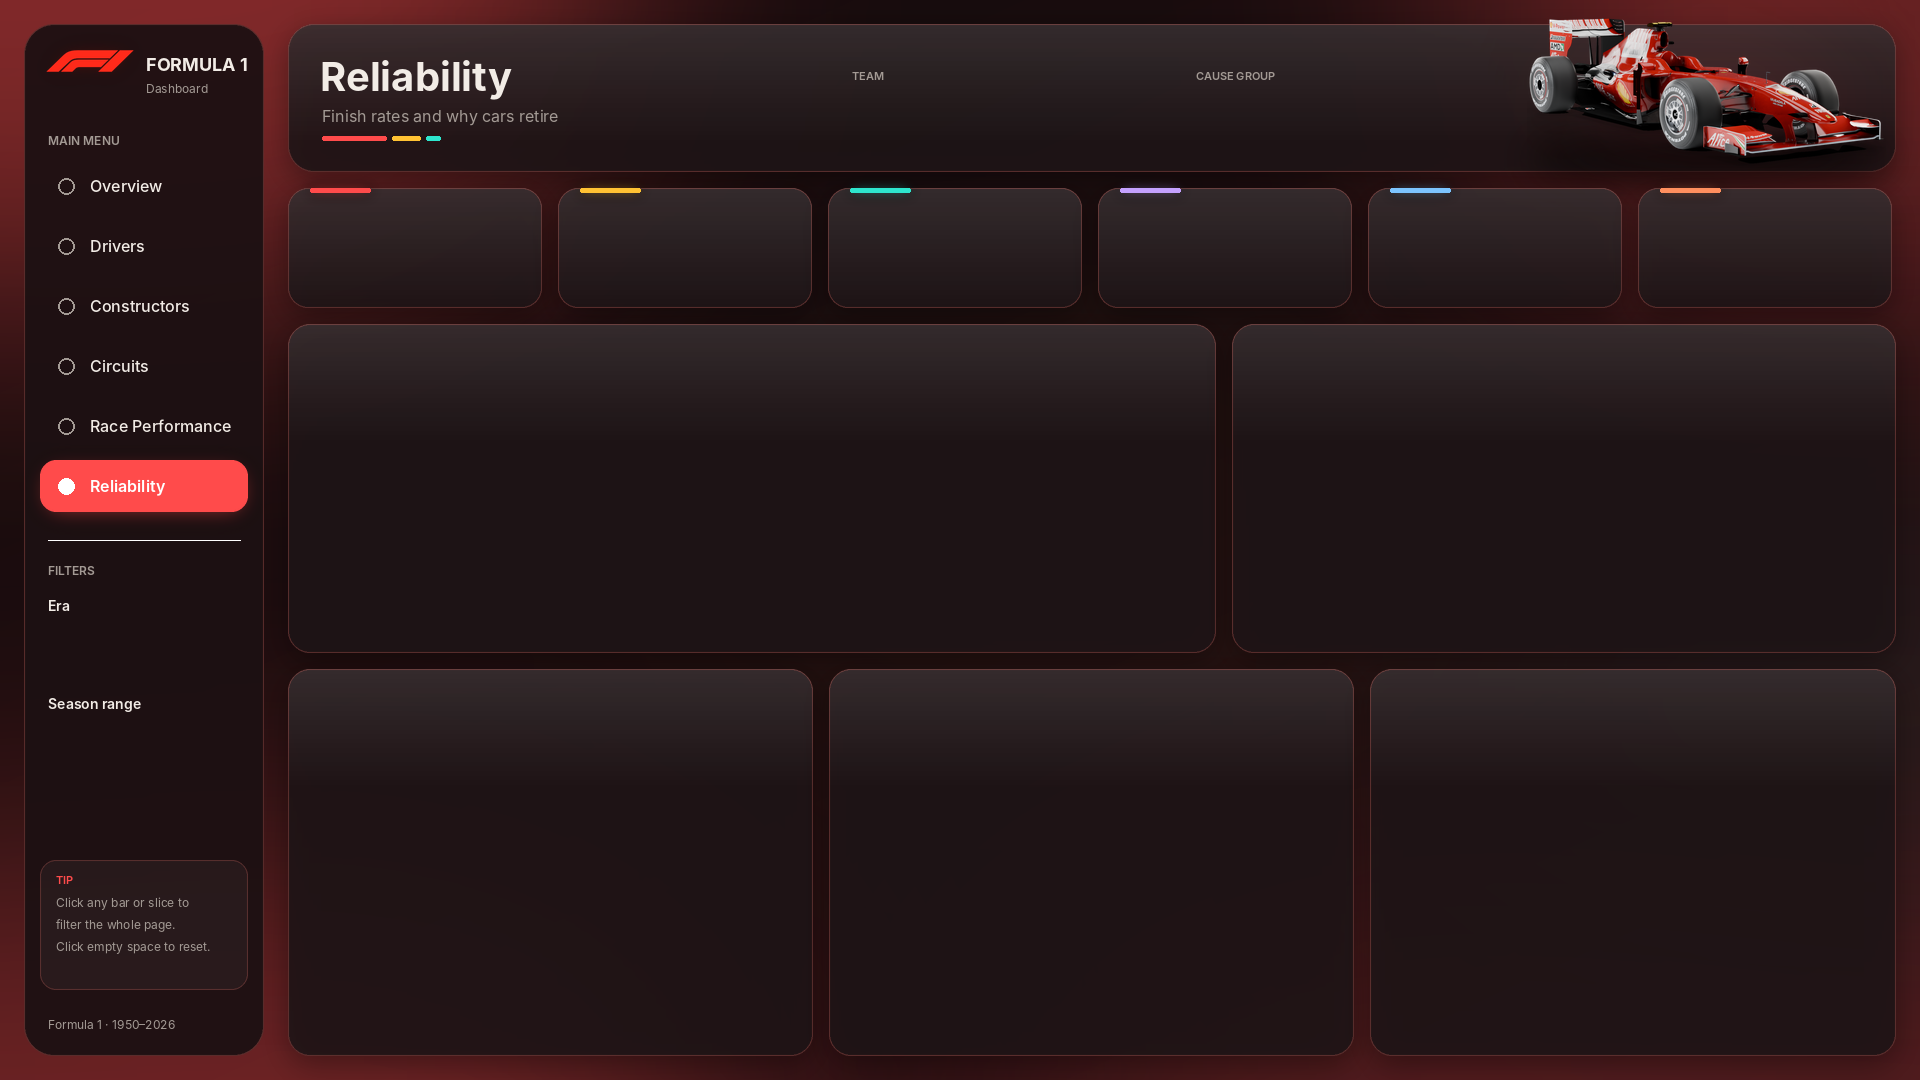

This screenshot's page, from the dashboard's own definition file:
{"tool":"powerbi","page":{"name":"Reliability","canvas":[1920,1080],"ordinal":5},"visuals":[{"type":"actionButton","box":[40,160,208,52],"z":1000},{"type":"actionButton","box":[40,220,208,52],"z":2000},{"type":"actionButton","box":[40,280,208,52],"z":3000},{"type":"actionButton","box":[40,340,208,52],"z":4000},{"type":"actionButton","box":[40,400,208,52],"z":5000},{"type":"actionButton","box":[40,460,208,52],"z":6000},{"type":"slicer","fields":{"Values":["dim_race.era"]},"box":[40,622,208,44],"z":7000},{"type":"slicer","fields":{"Values":["dim_race.year"]},"box":[40,724,208,96],"z":8000},{"type":"slicer","fields":{"Values":["dim_constructor.constructor_name"]},"box":[848,90,328,40],"z":9000},{"type":"slicer","fields":{"Values":["dim_status.status_group"]},"box":[1192,90,328,40],"z":10000},{"type":"card","fields":{"Values":["_Measures.Starts"]},"box":[300,202,230,96],"z":11000},{"type":"card","fields":{"Values":["_Measures.Finish Rate"]},"box":[570,202,230,96],"z":12000},{"type":"card","fields":{"Values":["_Measures.Retirements"]},"box":[840,202,230,96],"z":13000},{"type":"card","fields":{"Values":["_Measures.Retirement Rate"]},"box":[1110,202,230,96],"z":14000},{"type":"card","fields":{"Values":["_Measures.Fastest Laps"]},"box":[1380,202,230,96],"z":15000},{"type":"card","fields":{"Values":["_Measures.Podium Rate"]},"box":[1650,202,230,96],"z":16000},{"type":"areaChart","title":"Retirement rate by season","fields":{"Category":["dim_race.year"],"Y":["_Measures.Retirement Rate"]},"box":[300,336,904,305],"z":17000},{"type":"donutChart","title":"Retirement causes","fields":{"Category":["dim_status.status_group"],"Y":["_Measures.Retirements"]},"box":[1244,336,640,305],"z":18000},{"type":"clusteredBarChart","title":"Top 10 retirement reasons","fields":{"Category":["dim_status.status"],"Y":["_Measures.Retirements"]},"box":[300,681,501,363],"z":19000},{"type":"clusteredColumnChart","title":"Retirement rate by era","fields":{"Category":["dim_race.era"],"Y":["_Measures.Retirement Rate"]},"box":[841,681,501,363],"z":20000},{"type":"clusteredBarChart","title":"Drivers with most retirements","fields":{"Category":["dim_driver.driver_name"],"Y":["_Measures.Retirements"]},"box":[1382,681,502,363],"z":21000}]}

Visuals, with their boxes in screenshot pixels (x1, y1, x2, y2), scaled from the page's 1920x1080 canvas onto the 1920x1080 screenshot:
actionButton: box=[40, 160, 248, 212]
actionButton: box=[40, 220, 248, 272]
actionButton: box=[40, 280, 248, 332]
actionButton: box=[40, 340, 248, 392]
actionButton: box=[40, 400, 248, 452]
actionButton: box=[40, 460, 248, 512]
slicer - dim_race.era: box=[40, 622, 248, 666]
slicer - dim_race.year: box=[40, 724, 248, 820]
slicer - dim_constructor.constructor_name: box=[848, 90, 1176, 130]
slicer - dim_status.status_group: box=[1192, 90, 1520, 130]
card - _Measures.Starts: box=[300, 202, 530, 298]
card - _Measures.Finish Rate: box=[570, 202, 800, 298]
card - _Measures.Retirements: box=[840, 202, 1070, 298]
card - _Measures.Retirement Rate: box=[1110, 202, 1340, 298]
card - _Measures.Fastest Laps: box=[1380, 202, 1610, 298]
card - _Measures.Podium Rate: box=[1650, 202, 1880, 298]
"Retirement rate by season" areaChart: box=[300, 336, 1204, 641]
"Retirement causes" donutChart: box=[1244, 336, 1884, 641]
"Top 10 retirement reasons" clusteredBarChart: box=[300, 681, 801, 1044]
"Retirement rate by era" clusteredColumnChart: box=[841, 681, 1342, 1044]
"Drivers with most retirements" clusteredBarChart: box=[1382, 681, 1884, 1044]
